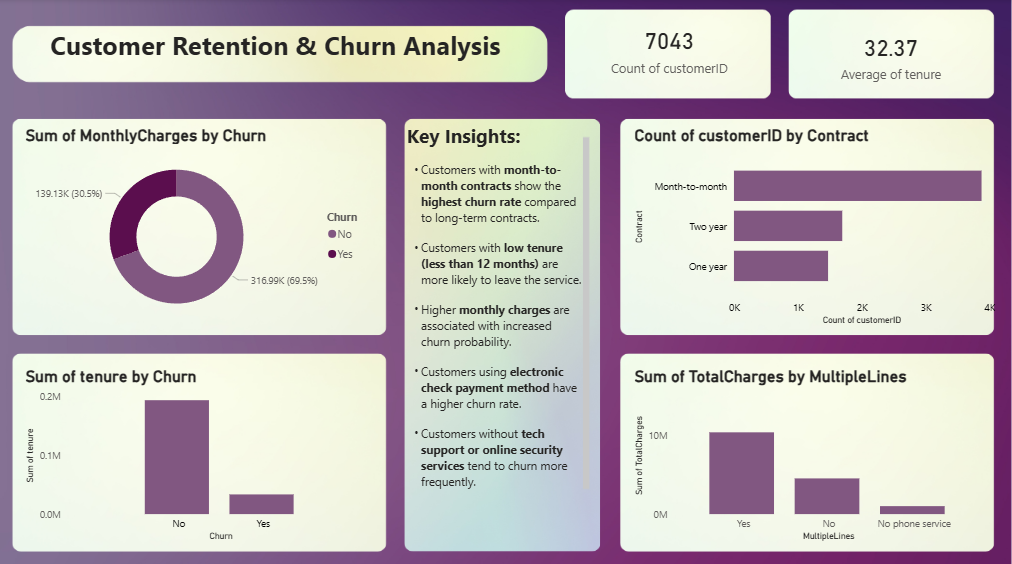

What the dashboard file says about the page in this screenshot:
{"tool":"powerbi","page":{"name":"Page 1","canvas":[1280,720],"ordinal":0},"visuals":[{"type":"card","fields":{"Values":["CountNonNull(WA_Fn-UseC_-Telco-Customer-Churn.customerID)"]},"box":[720,16,256,96],"z":0},{"type":"card","fields":{"Values":["Avg(WA_Fn-UseC_-Telco-Customer-Churn.tenure)"]},"box":[1008,16,240,112],"z":1},{"type":"textbox","box":[0,32,704,64],"z":2},{"type":"barChart","fields":{"Y":["CountNonNull(WA_Fn-UseC_-Telco-Customer-Churn.customerID)"],"Category":["WA_Fn-UseC_-Telco-Customer-Churn.Contract"]},"box":[800,160,464,256],"z":3},{"type":"donutChart","fields":{"Category":["WA_Fn-UseC_-Telco-Customer-Churn.Churn"],"Y":["Sum(WA_Fn-UseC_-Telco-Customer-Churn.MonthlyCharges)"]},"box":[32,160,448,256],"z":4},{"type":"lineStackedColumnComboChart","fields":{"Category":["WA_Fn-UseC_-Telco-Customer-Churn.Churn"],"Y":["Sum(WA_Fn-UseC_-Telco-Customer-Churn.tenure)"]},"box":[32,464,448,224],"z":5},{"type":"clusteredColumnChart","fields":{"Category":["WA_Fn-UseC_-Telco-Customer-Churn.MultipleLines"],"Y":["Sum(WA_Fn-UseC_-Telco-Customer-Churn.TotalCharges)"]},"box":[800,464,448,224],"z":6},{"type":"textbox","box":[512,160,240,480],"z":7}]}

Visuals, with their boxes in screenshot pixels (x1, y1, x2, y2), scaled from the page's 1280x720 canvas onto the 1012x564 screenshot:
card - CountNonNull(WA_Fn-UseC_-Telco-Customer-Churn.customerID): l=569, t=13, r=772, b=88
card - Avg(WA_Fn-UseC_-Telco-Customer-Churn.tenure): l=797, t=13, r=987, b=100
textbox: l=0, t=25, r=557, b=75
barChart - CountNonNull(WA_Fn-UseC_-Telco-Customer-Churn.customerID) x WA_Fn-UseC_-Telco-Customer-Churn.Contract: l=632, t=125, r=999, b=326
donutChart - WA_Fn-UseC_-Telco-Customer-Churn.Churn x Sum(WA_Fn-UseC_-Telco-Customer-Churn.MonthlyCharges): l=25, t=125, r=380, b=326
lineStackedColumnComboChart - WA_Fn-UseC_-Telco-Customer-Churn.Churn x Sum(WA_Fn-UseC_-Telco-Customer-Churn.tenure): l=25, t=363, r=380, b=539
clusteredColumnChart - WA_Fn-UseC_-Telco-Customer-Churn.MultipleLines x Sum(WA_Fn-UseC_-Telco-Customer-Churn.TotalCharges): l=632, t=363, r=987, b=539
textbox: l=405, t=125, r=595, b=501
